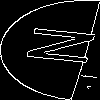N: (24, 25, 100, 68)
